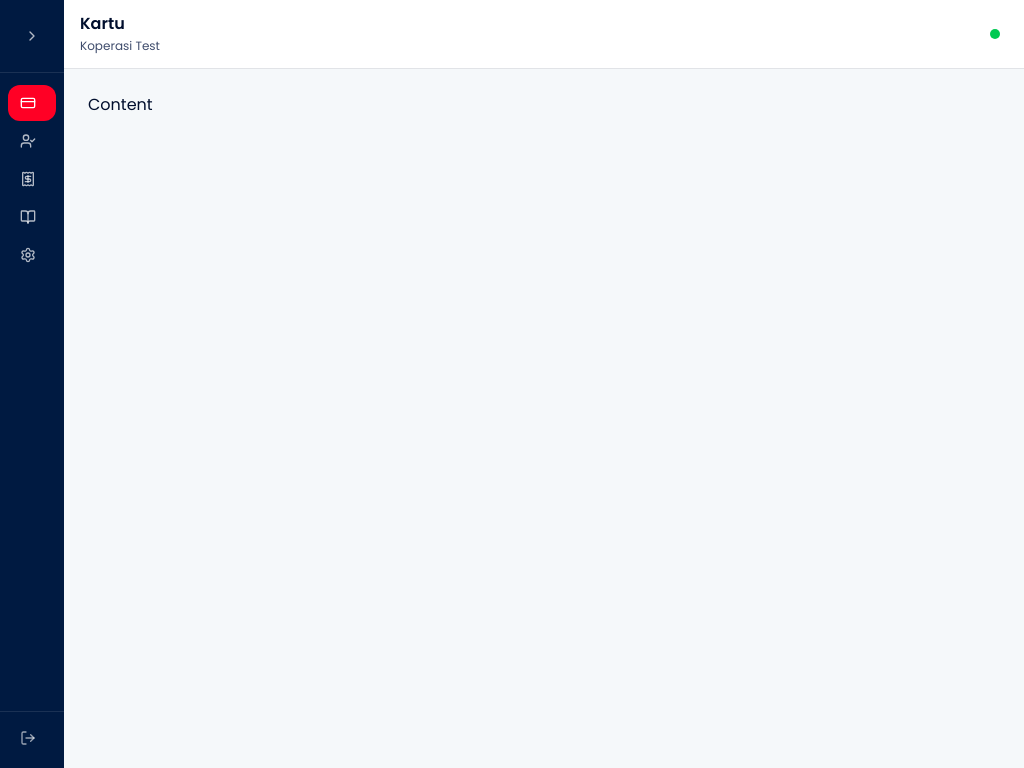
AdminLayout - sync drawer content › disables Sync ke Server button when isSyncingToServer=true
Click the button named "Lihat status sinkronisasi" at (995, 34), box [982,25,1008,43]
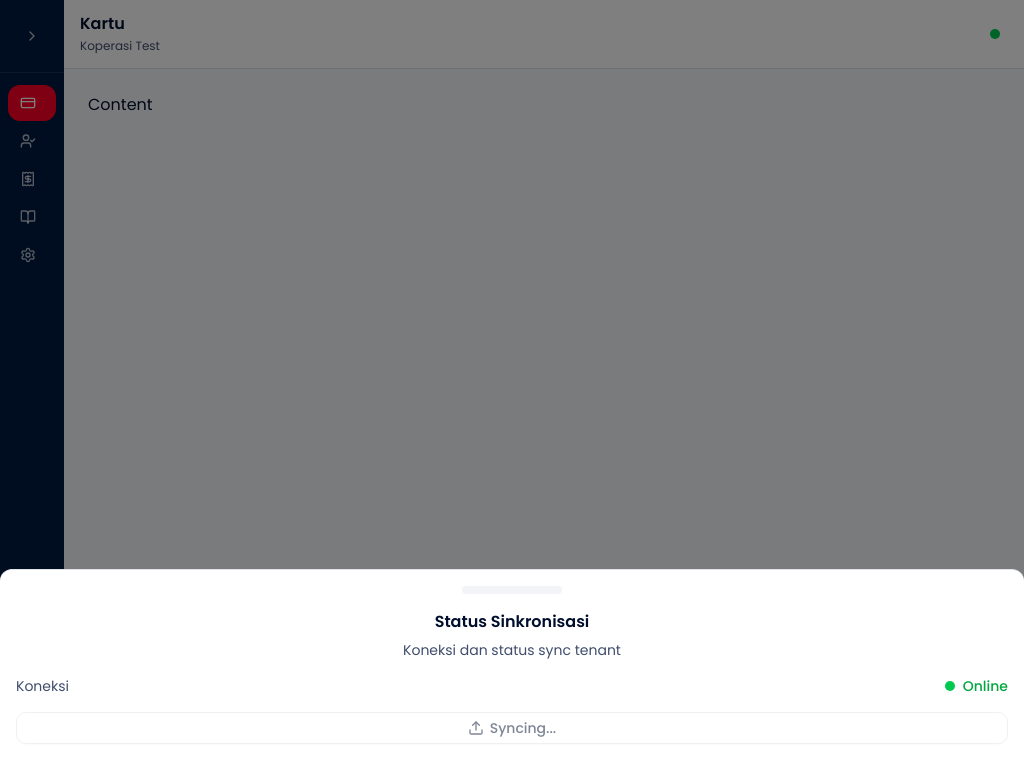
Expected: the button "Syncing..." is disabled, [16,712,1008,744]
